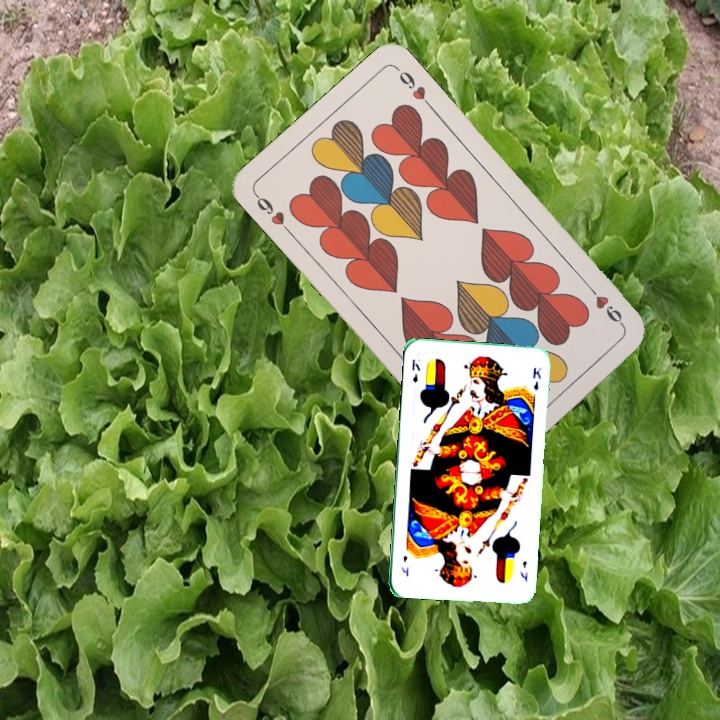EK: (408, 355, 423, 385), (516, 557, 530, 584)
H9: (583, 281, 627, 330), (250, 189, 294, 237)
